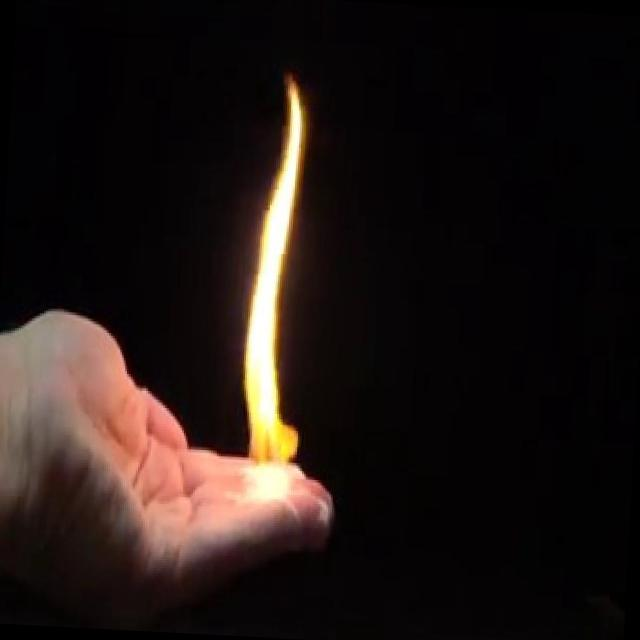Fire: (220, 67, 326, 506)
